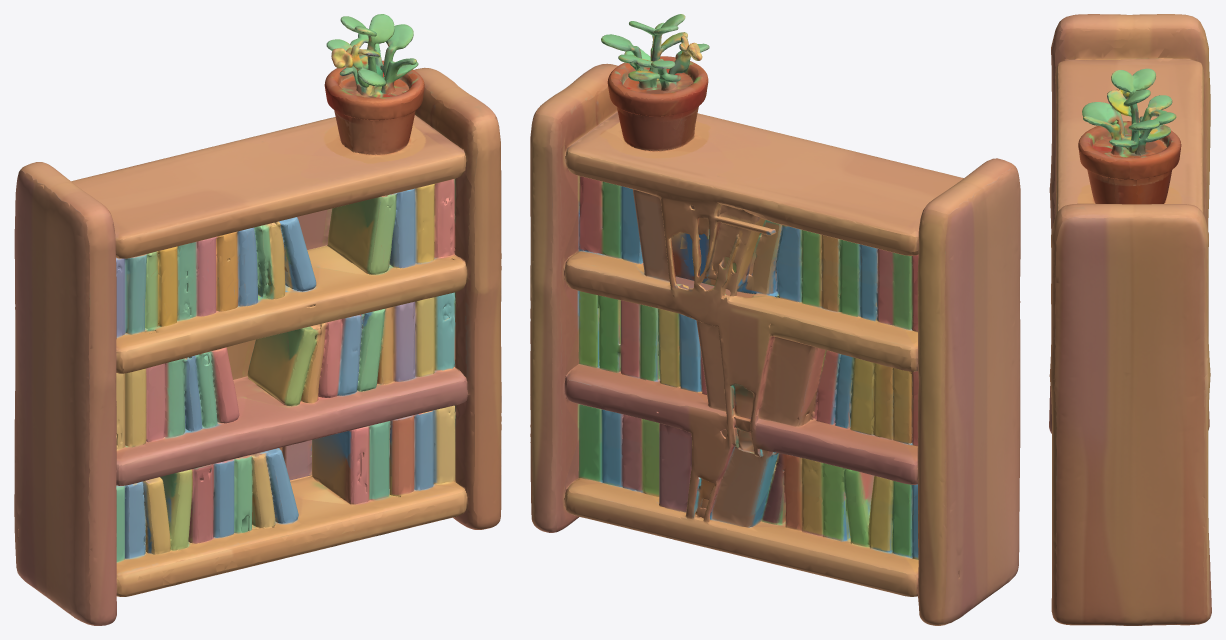
Rendered from fur_shelf_book_01.glb.
3 views of the same model, side by side, from view 1: azimuth 30°, elevation 25°; view 2: azimuth 150°, elevation 25°; view 3: azimuth 270°, elevation 25° (orthographic).
Visible parts, largest first — view 1: geometry_0; view 2: geometry_0; view 3: geometry_0.
Boxes of the visible parts, <box> form: geometry_0: <box>14,14,501,625</box>; geometry_0: <box>530,14,1020,625</box>; geometry_0: <box>1049,14,1211,625</box>.
Size of the model in its own units: 0.45 by 0.5119 by 0.1496.
1 material, 1 textured.
